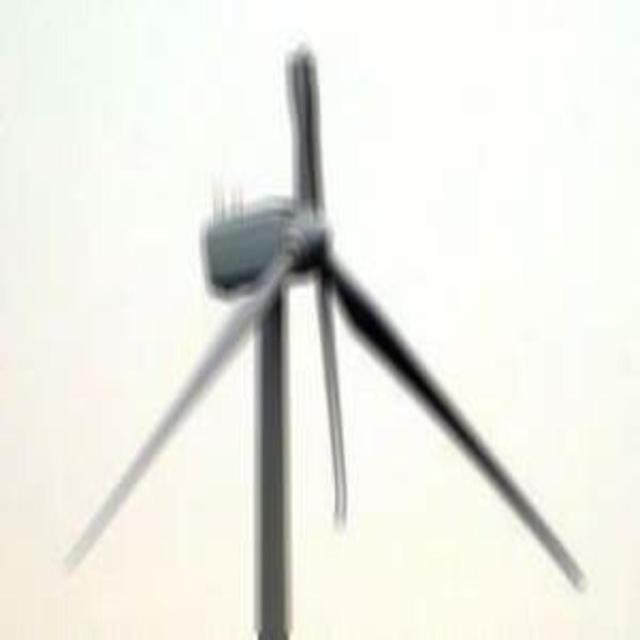crack: (273, 25, 365, 533)
